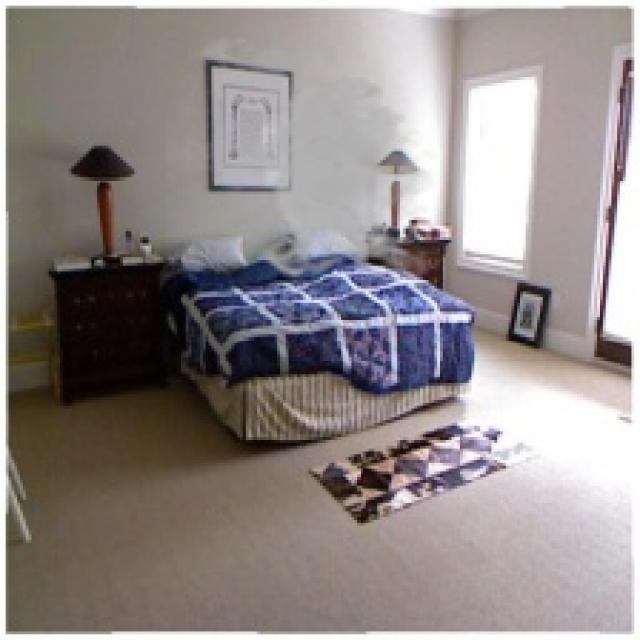smoke: (166, 28, 437, 283)
